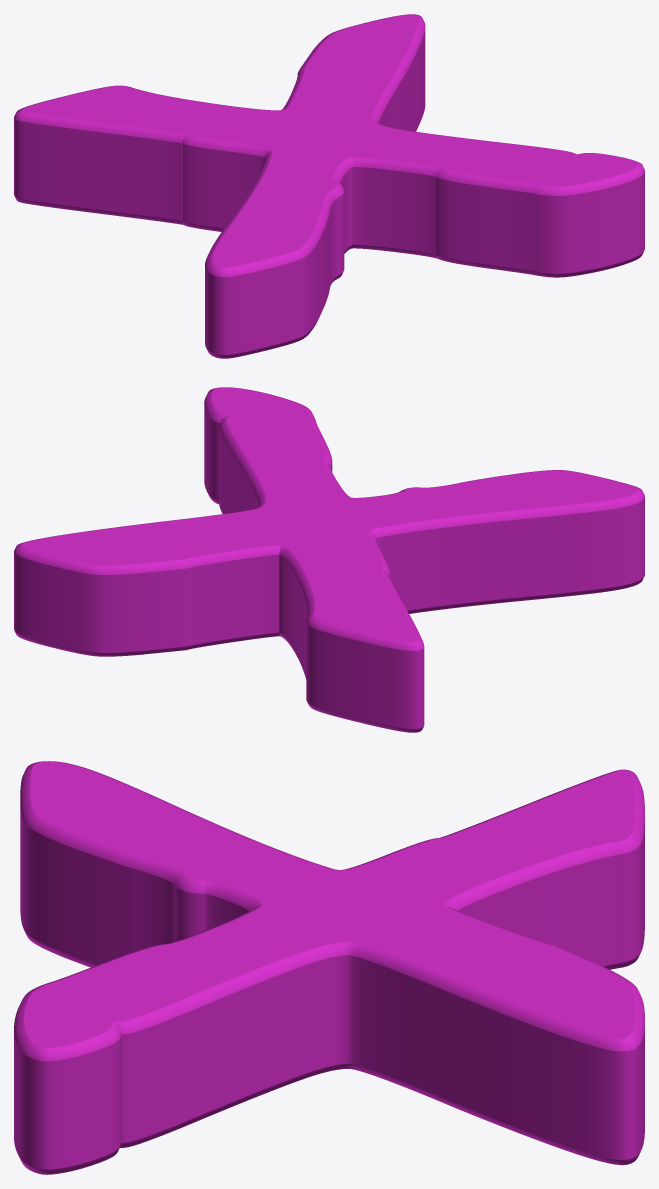
File: Bubble_LetterX.fbx
3 renders of one model, top to bottom at view 1: azimuth 30°, elevation 25°; view 2: azimuth 150°, elevation 25°; view 3: azimuth 270°, elevation 25°, orthographic. The views are drawn at different scales.
Visible parts, largest first — view 1: BubbleLetter_X; view 2: BubbleLetter_X; view 3: BubbleLetter_X.
Boxes of the visible parts, x1,y1,x2,y2 form: BubbleLetter_X: [14, 14, 644, 358]; BubbleLetter_X: [14, 387, 644, 732]; BubbleLetter_X: [14, 761, 644, 1174].
Size of the model in its own units: 0.7004 by 0.14 by 0.6331.
